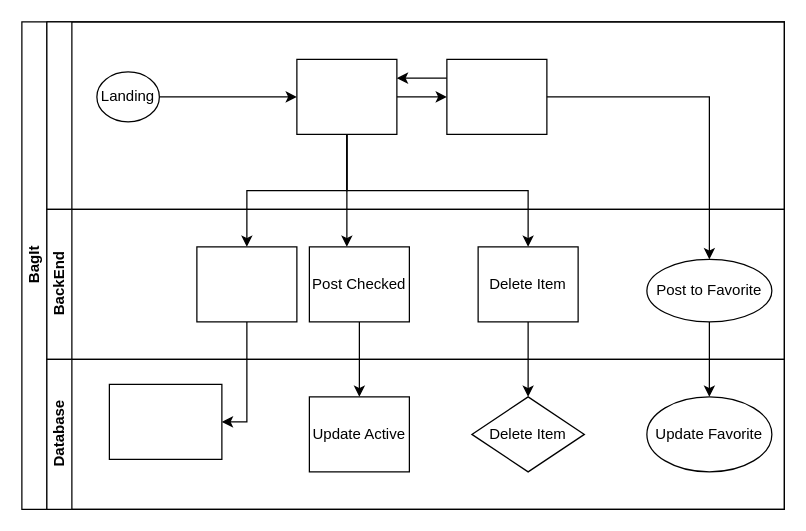
This 806x531 diagram has some shape labels left out. Each missing label, with the box of its shape:
Current List: Add Item: (296, 58, 397, 134)
Favorite: (446, 58, 547, 134)
Frontend: (46, 21, 784, 209)
Insert Item: (108, 383, 222, 459)
Post Item: (196, 246, 297, 322)
